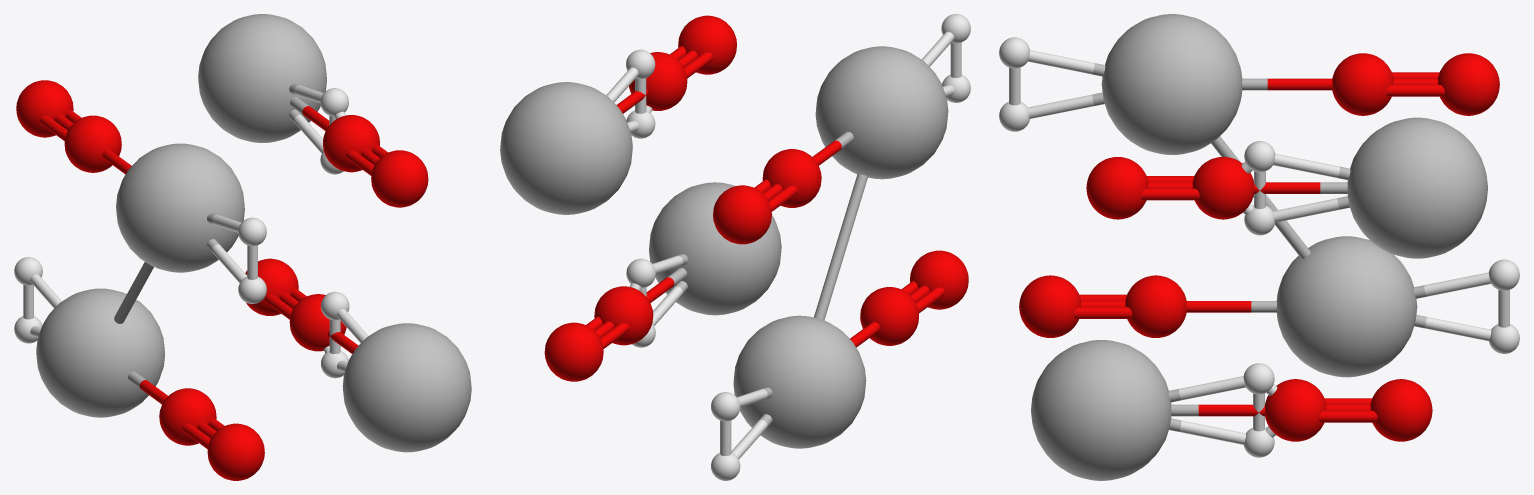
The model's file is lepidocrocite_5.glb.
3 views of the same model, side by side, from view 1: azimuth 30°, elevation 25°; view 2: azimuth 150°, elevation 25°; view 3: azimuth 270°, elevation 25° (orthographic). The views are drawn at different scales.
Parts seen in each view (by area): view 1: V17, V20, V19, V18, O05, O04, O02, O01, O06, O08, O07, O03 (+16 smaller); view 2: V18, V20, V19, V17, O06, O03, O01, O05, O07, O02, O04, O08 (+16 smaller); view 3: V18, V17, V20, V19, O03, O04, O02, O06, O01, O05, O07, O08 (+25 smaller).
Part boxes in pixels (x1,y1,x2,y2): V17: (342,323,471,452); V20: (116,143,244,272); V19: (36,288,164,417); V18: (198,14,326,142); O05: (207,423,264,480); O04: (371,150,428,207); O02: (64,115,121,172); O01: (159,388,216,445); O06: (16,80,73,137); O08: (323,115,379,172); O07: (289,294,346,351); O03: (245,258,298,315); V18: (500,82,632,214); V20: (815,46,948,179); V19: (733,315,866,448); V17: (649,182,781,315); O06: (713,185,771,244); O03: (544,322,603,381); O01: (860,287,918,345); O05: (910,250,968,309); O07: (594,286,653,345); O02: (762,149,821,207); O04: (678,15,736,74); O08: (629,52,687,110); V18: (1347,117,1487,258); V17: (1031,340,1171,480); V20: (1101,14,1242,154); V19: (1276,236,1417,377); O03: (1370,379,1432,441); O04: (1086,157,1148,219); O02: (1332,53,1393,115); O06: (1437,53,1499,115); O01: (1125,275,1186,337); O05: (1019,275,1081,337); O07: (1265,379,1326,441); O08: (1192,157,1253,219).
Bounding box in the file's own units: 3.94 × 3.94 × 5.31.
